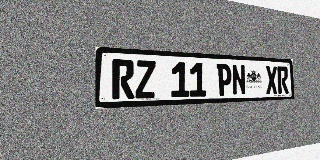1: (171, 62, 189, 97), (189, 62, 206, 97)
N: (232, 64, 246, 95)
P: (217, 63, 232, 96)
R: (112, 59, 134, 99), (277, 66, 289, 94)
X: (265, 66, 278, 94)
Z: (135, 60, 156, 99)
